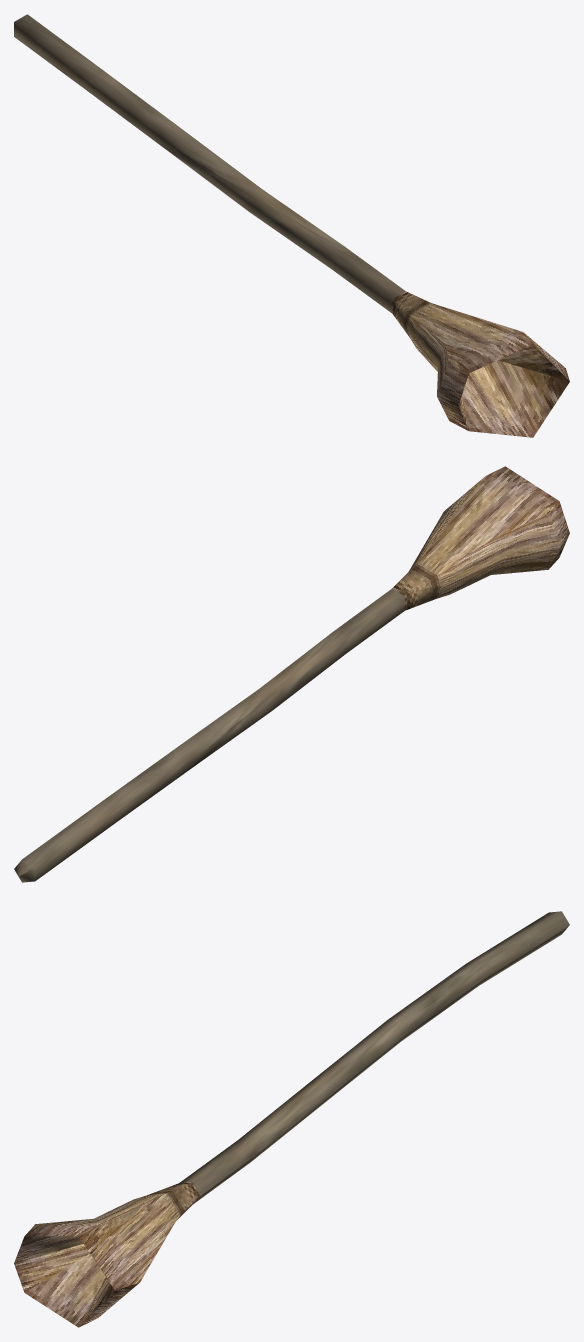
File: pir_m_hnd_tol_broom.fbx
3 views of the same model, one above another, from view 1: azimuth 30°, elevation 25°; view 2: azimuth 150°, elevation 25°; view 3: azimuth 330°, elevation 25° (orthographic). The views are drawn at different scales.
Parts seen in each view (by area): view 1: broom_handle, straw_outside, straw_inside; view 2: straw_outside, broom_handle; view 3: broom_handle, straw_outside, straw_inside.
Part boxes in pixels (x1,y1,x2,y2): broom_handle: [14, 14, 405, 313]; straw_outside: [392, 291, 569, 430]; straw_inside: [458, 344, 569, 437]; straw_outside: [392, 466, 569, 610]; broom_handle: [14, 589, 404, 882]; broom_handle: [180, 911, 569, 1204]; straw_outside: [25, 1182, 199, 1327]; straw_inside: [14, 1236, 114, 1327].
Size of the model in its own units: 67.84 by 48.84 by 479.
Materials: 2 (2 with a texture image).
